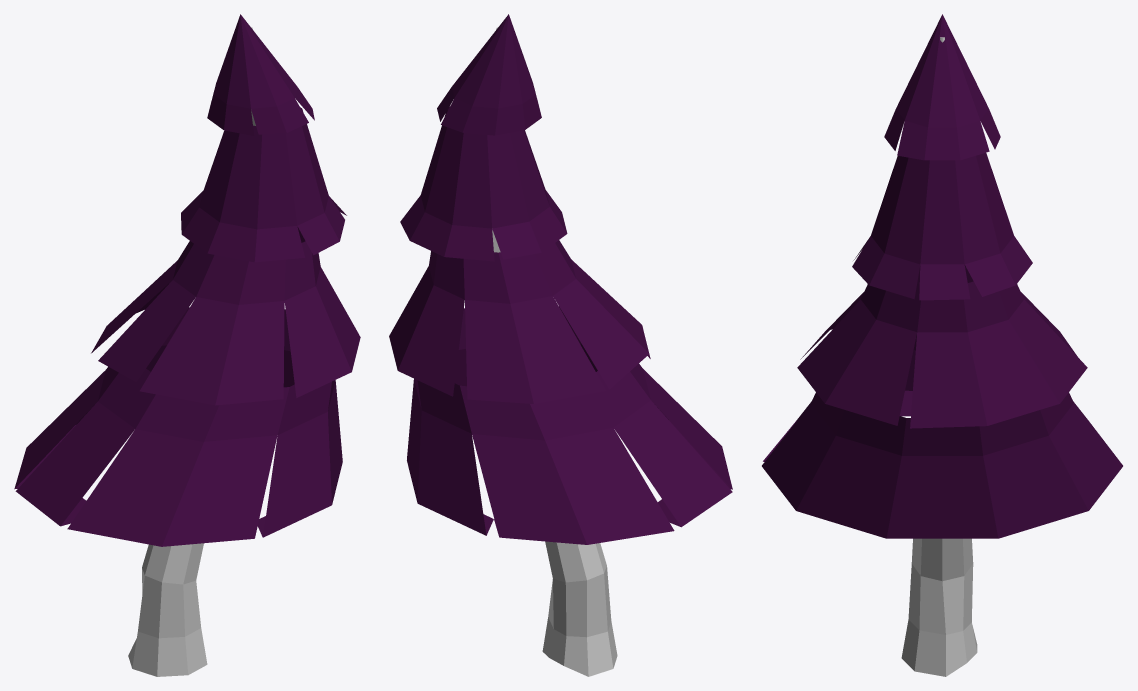
File: Tanne2 1.fbx
The picture shows the model from 3 angles, left to right: view 1: azimuth 30°, elevation 25°; view 2: azimuth 150°, elevation 25°; view 3: azimuth 270°, elevation 25°; orthographic projection. The views are drawn at different scales.
Visible parts, largest first — view 1: Tanne2; view 2: Tanne2; view 3: Tanne2.
Part boxes in pixels (x1,y1,x2,y2): Tanne2: (14, 14, 360, 676); Tanne2: (389, 14, 732, 676); Tanne2: (762, 14, 1122, 676).
Bounding box in the file's own units: 851 × 1679 × 808.
